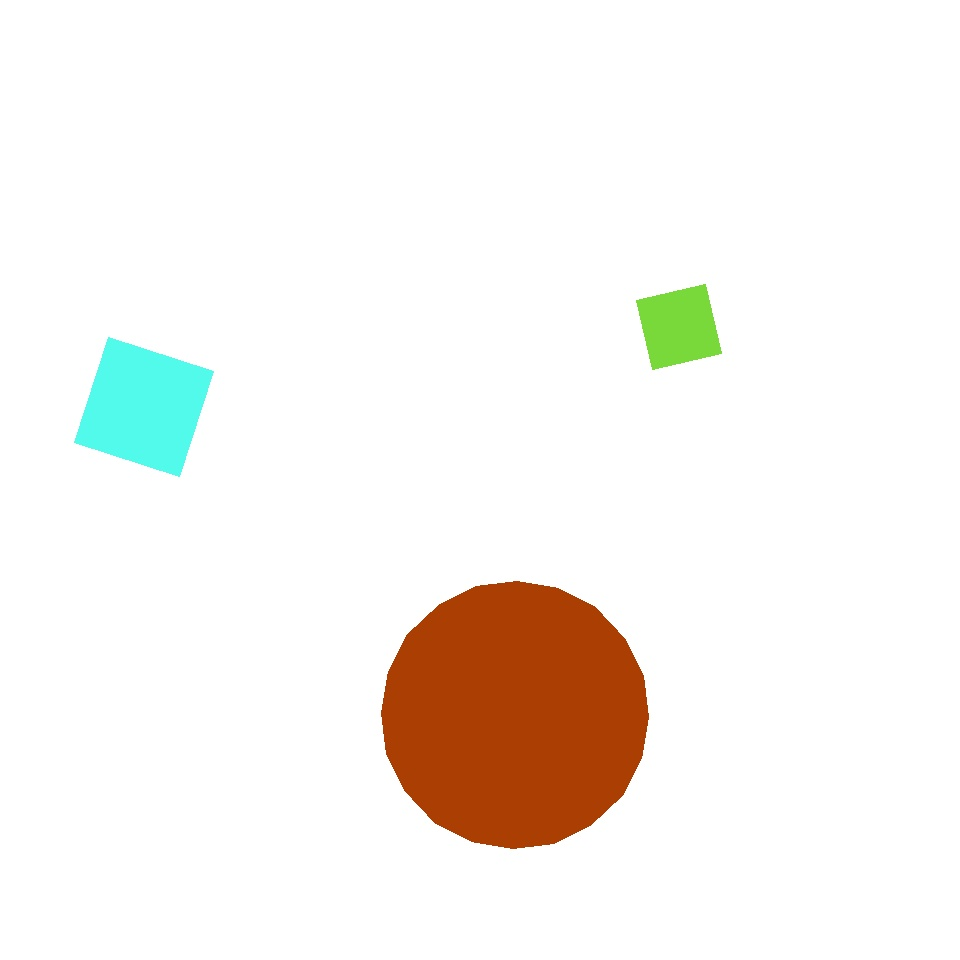circle: (311, 745, 433, 878)
square: (18, 30, 260, 272), (74, 338, 214, 476), (636, 284, 722, 370)
triangle: (88, 674, 362, 950), (382, 582, 648, 848), (536, 640, 648, 751)
